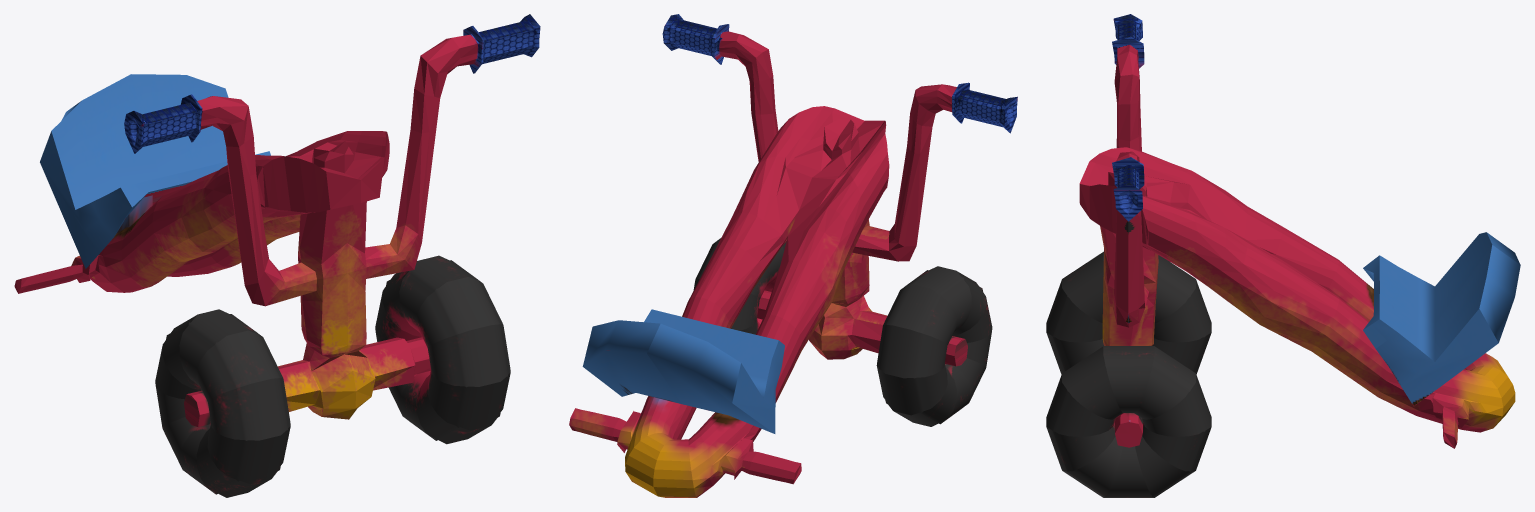
File: TricicloPropPaola.fbx
3 renders of one model, left to right at view 1: azimuth 30°, elevation 25°; view 2: azimuth 150°, elevation 25°; view 3: azimuth 270°, elevation 25°, orthographic. The views are drawn at different scales.
Visible parts, largest first — view 1: TricicloChasis, Sillon, Llanta2, Llanta1; view 2: TricicloChasis, Sillon, Llanta2, Llanta1; view 3: TricicloChasis, Llanta1, Sillon, Llanta2.
Boxes of the visible parts, x1,y1,x2,y2 form: TricicloChasis: [14, 14, 540, 426]; Sillon: [40, 74, 270, 268]; Llanta2: [155, 309, 290, 497]; Llanta1: [375, 255, 510, 444]; TricicloChasis: [569, 14, 1017, 497]; Sillon: [582, 309, 784, 433]; Llanta2: [876, 266, 992, 426]; Llanta1: [693, 238, 786, 334]; TricicloChasis: [1079, 14, 1515, 448]; Llanta1: [1046, 346, 1211, 497]; Sillon: [1363, 232, 1520, 406]; Llanta2: [1046, 251, 1211, 374].
Bounding box in the file's own units: 4.12 × 3.89 × 4.79.
Materials: 1 (1 with a texture image).
